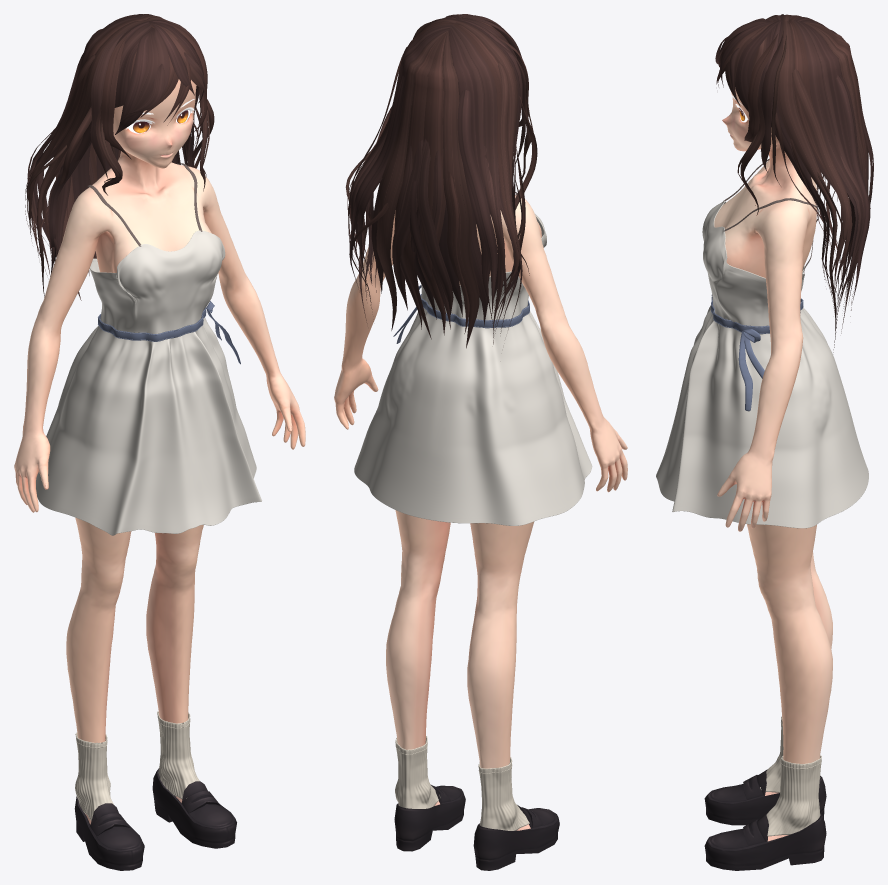
Rendered from White_Dress_Avatar.glb.
3 views of the same model, side by side, from view 1: azimuth 30°, elevation 25°; view 2: azimuth 150°, elevation 25°; view 3: azimuth 270°, elevation 25° (orthographic).
Parts seen in each view (by area): view 1: Skin, Skirt, Camisole, Loafers, Back waves, Fringe, Temples, Face, Separated ends, Socks, Socks.001, Roots (+2 smaller); view 2: Skirt, Skin, Back waves, Separated ends, Back waves.001, Loafers, Separated ends.001, Socks.001, Socks, Camisole, Temples, Waist; view 3: Skin, Skirt, Back waves.001, Loafers, Separated ends.001, Camisole, Temples, Socks, Fringe, Back waves, Face, Belt.003 (+2 smaller).
Part boxes in pixels (left/top/right/bottom): Skin: left=14, top=131, right=305, bottom=824; Skirt: left=36, top=317, right=261, bottom=535; Camisole: left=89, top=230, right=225, bottom=333; Loafers: left=74, top=768, right=236, bottom=870; Back waves: left=26, top=15, right=149, bottom=300; Fringe: left=115, top=21, right=205, bottom=134; Temples: left=90, top=19, right=209, bottom=195; Face: left=113, top=79, right=196, bottom=168; Separated ends: left=25, top=53, right=96, bottom=275; Socks: left=157, top=712, right=199, bottom=799; Socks.001: left=75, top=734, right=113, bottom=820; Roots: left=114, top=19, right=199, bottom=107; Skirt: left=354, top=308, right=592, bottom=525; Skin: left=334, top=195, right=627, bottom=830; Back waves: left=417, top=19, right=522, bottom=348; Separated ends: left=409, top=63, right=537, bottom=333; Back waves.001: left=349, top=17, right=457, bottom=339; Loafers: left=394, top=785, right=559, bottom=870; Separated ends.001: left=345, top=47, right=429, bottom=329; Socks.001: left=478, top=759, right=529, bottom=830; Socks: left=395, top=737, right=440, bottom=808; Camisole: left=421, top=214, right=546, bottom=320; Temples: left=412, top=18, right=533, bottom=178; Waist: left=420, top=294, right=529, bottom=328; Skin: left=714, top=143, right=832, bottom=841; Skirt: left=656, top=305, right=868, bottom=528; Back waves.001: left=761, top=20, right=868, bottom=352; Loafers: left=704, top=769, right=826, bottom=870; Separated ends.001: left=775, top=68, right=872, bottom=322; Camisole: left=702, top=200, right=804, bottom=326; Temples: left=737, top=14, right=786, bottom=215; Socks: left=766, top=756, right=821, bottom=836; Fringe: left=715, top=18, right=781, bottom=111; Back waves: left=771, top=14, right=868, bottom=294; Face: left=722, top=87, right=779, bottom=151; Belt.003: left=738, top=331, right=752, bottom=411.
Bounding box in the file's own units: 0.5755 × 1.62 × 0.3887.
Materials: 17 (12 with a texture image).
